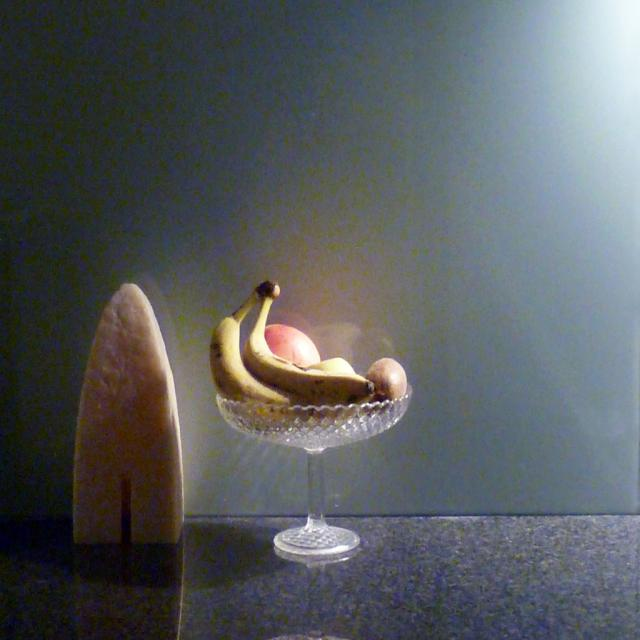Banana: (241, 285, 374, 421), (207, 286, 289, 422)
